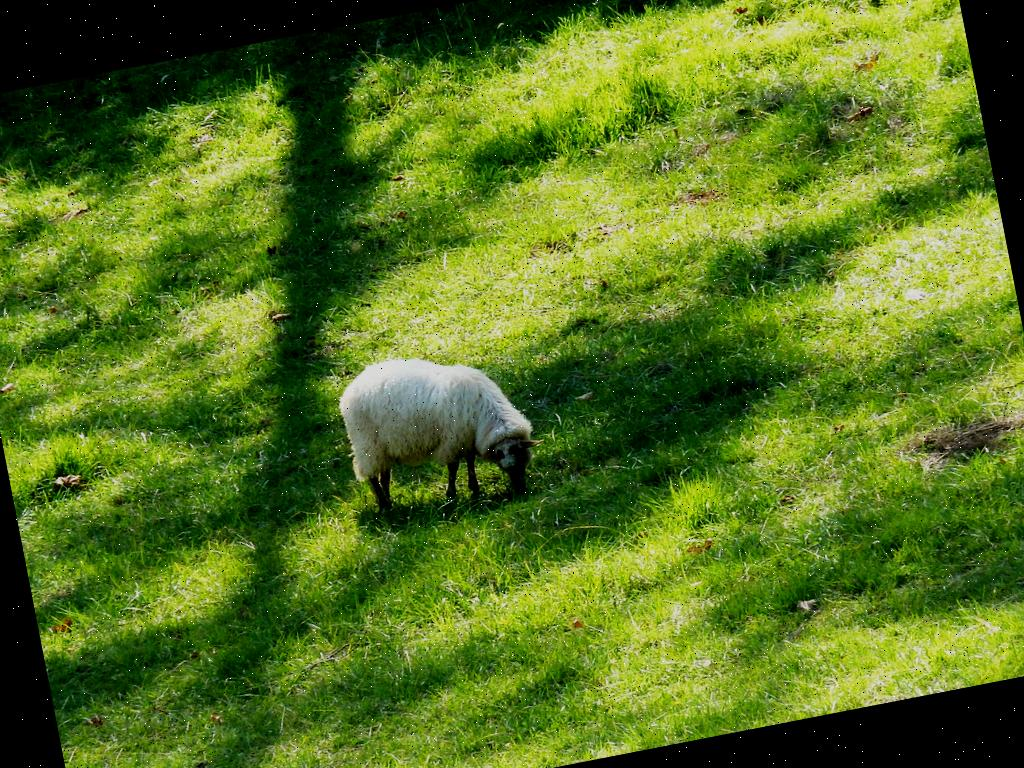Sheep: (322, 327, 552, 539)
